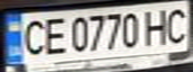0: (66, 12, 90, 53), (121, 9, 145, 48)
7: (84, 12, 106, 52), (103, 10, 124, 51)
C: (15, 16, 48, 57), (160, 3, 193, 44)
E: (39, 15, 69, 56)
H: (139, 6, 175, 46)
